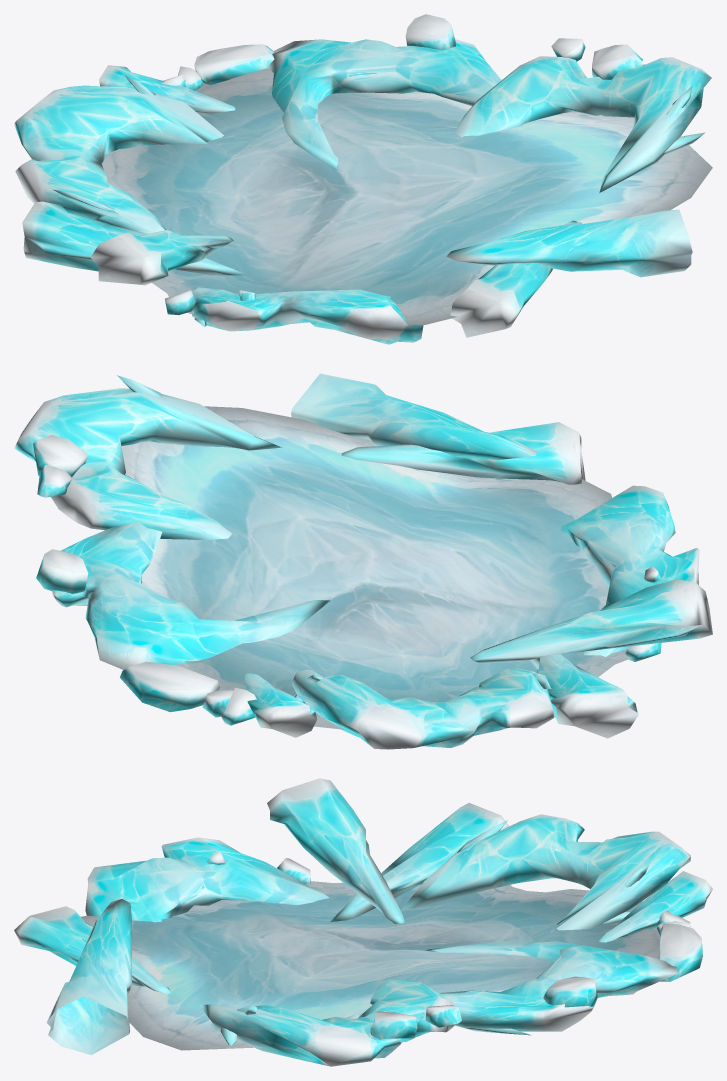
File: IceBroken.fbx
3 renders of one model, top to bottom at view 1: azimuth 30°, elevation 25°; view 2: azimuth 150°, elevation 25°; view 3: azimuth 270°, elevation 25°, orthographic. The views are drawn at different scales.
Parts seen in each view (by area): view 1: dragonblight_titanicesheet_01; view 2: dragonblight_titanicesheet_01; view 3: dragonblight_titanicesheet_01.
Part boxes in pixels (bbox=[...]): dragonblight_titanicesheet_01: bbox=[14, 14, 712, 344]; dragonblight_titanicesheet_01: bbox=[14, 373, 712, 749]; dragonblight_titanicesheet_01: bbox=[14, 778, 712, 1066].
Size of the model in its own units: 19189 by 4597 by 18446.
